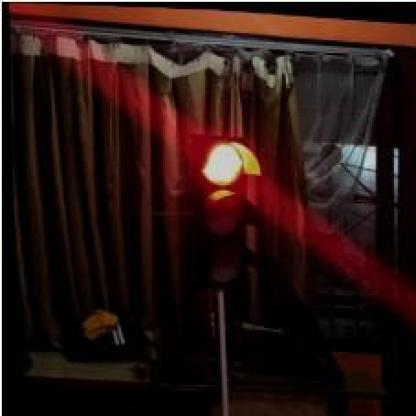red: (183, 134, 264, 288)
